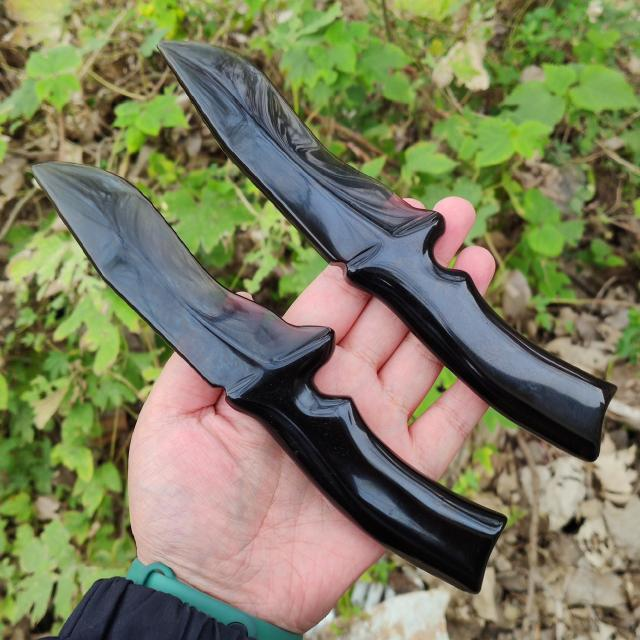Weapon: (34, 163, 505, 591), (160, 42, 614, 460)
